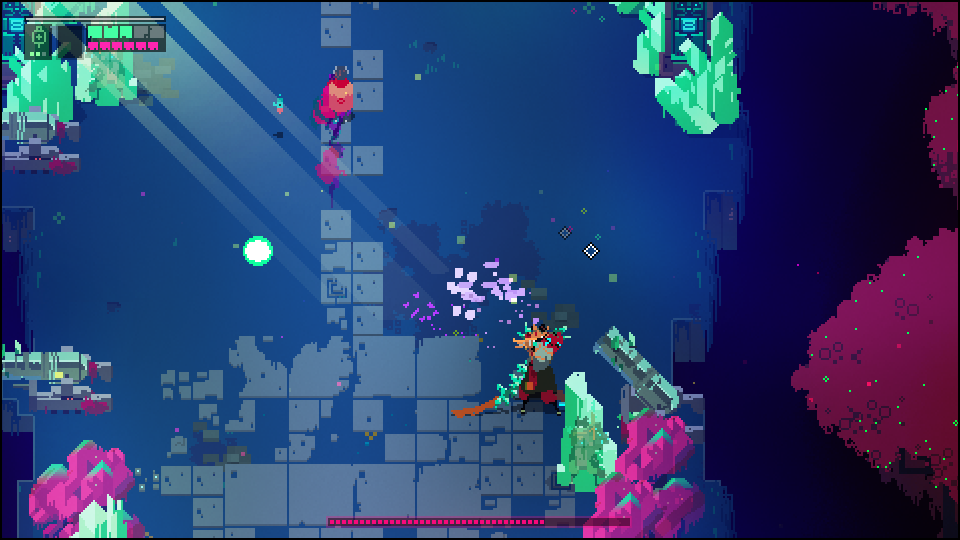hanged_man: (485, 314, 577, 421)
hanged_shot: (242, 232, 273, 269)
player: (325, 60, 356, 127)
